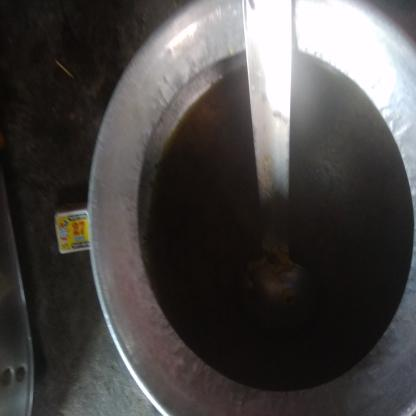cup: (2, 73, 313, 416)
